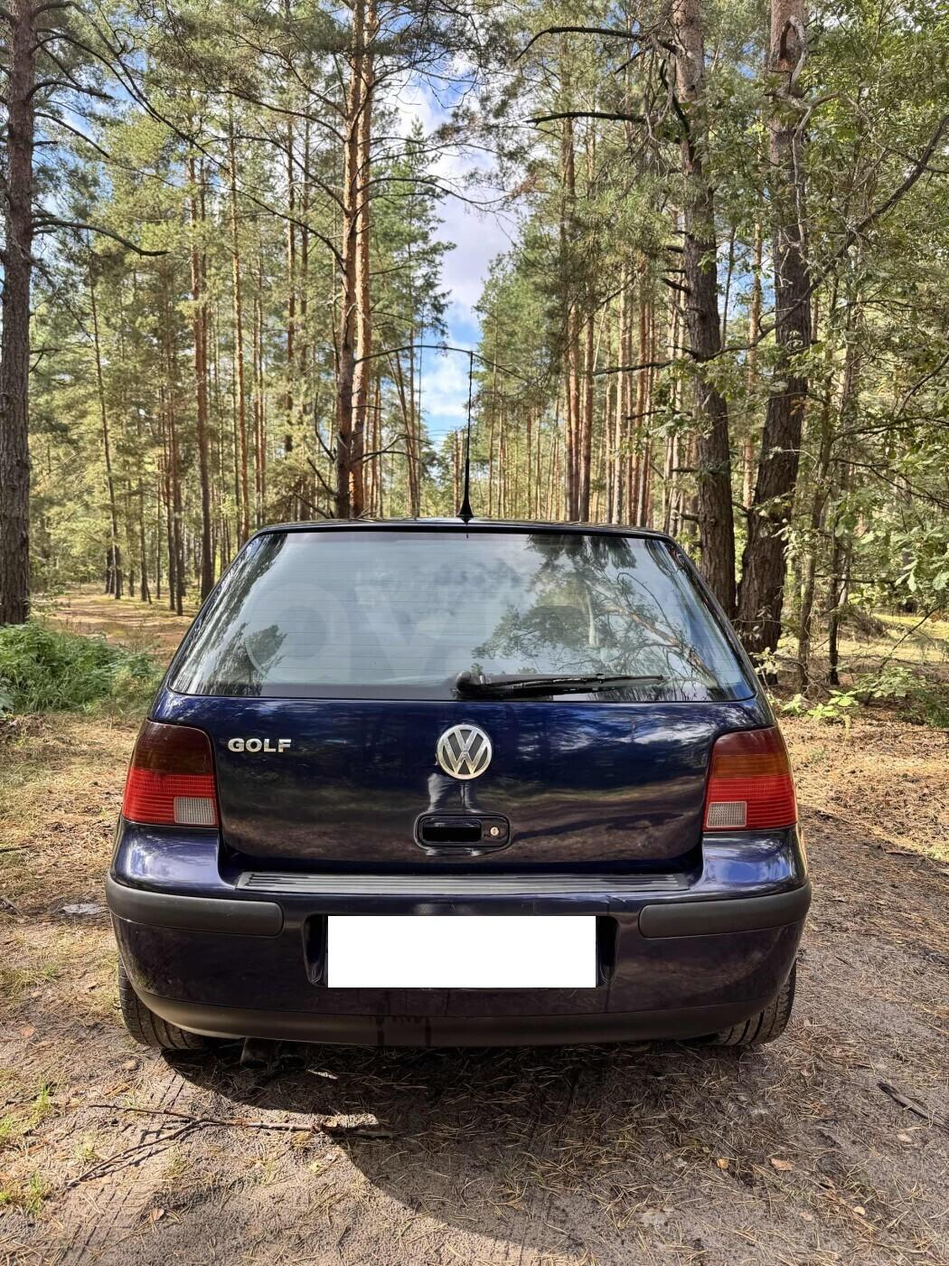Golf_1997-2006: (104, 509, 822, 1080)
